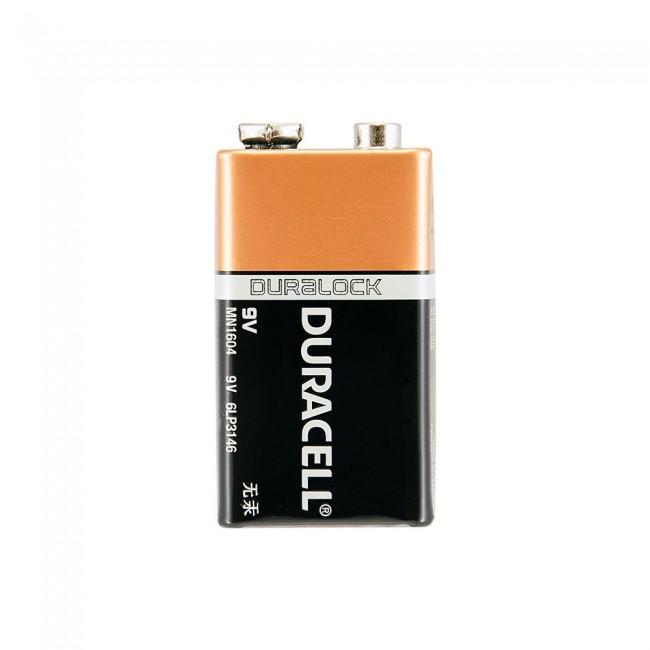9V: (207, 114, 444, 540)
